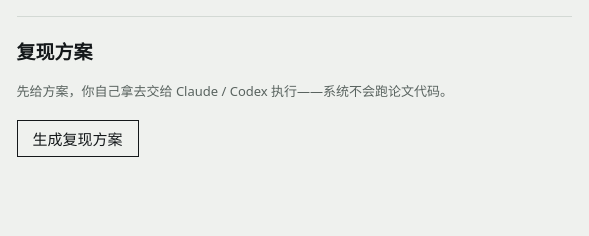
Test case: 评审修复回归 › 复现方案失败后按钮恢复可用并显示错误
Click the button "生成复现方案" at [78, 138], box [16,120,138,157]
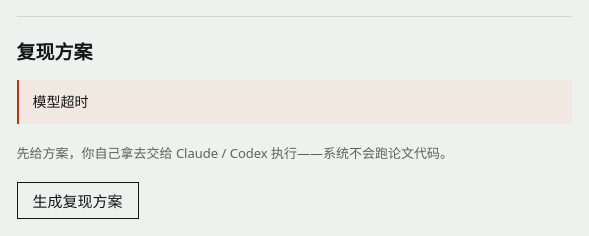
Check: the button "生成复现方案" is enabled, box [16,182,138,219]
Check: the text "模型超时" is shown, box [16,80,572,124]
